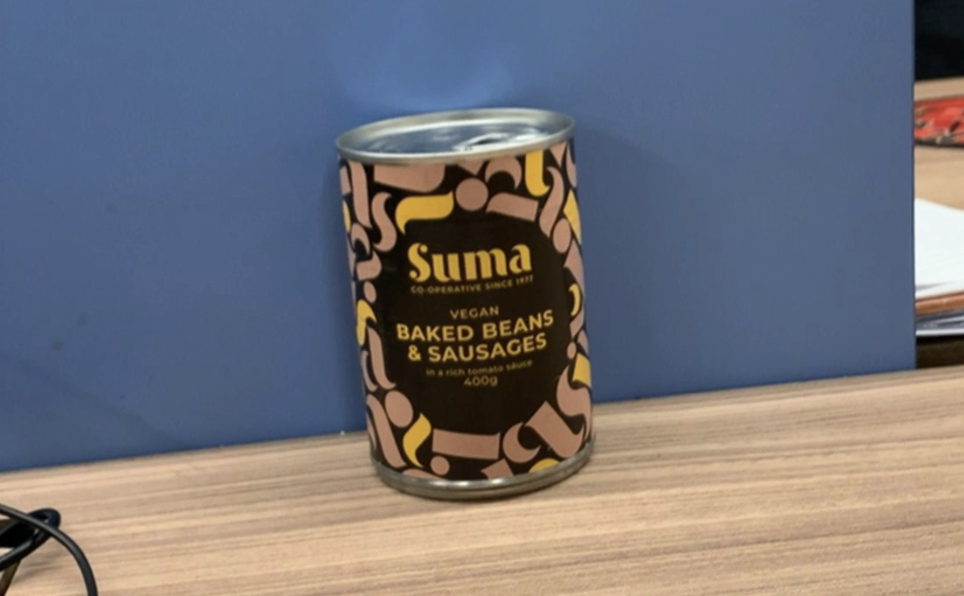Baked beans_450g: (375, 198, 579, 456)
